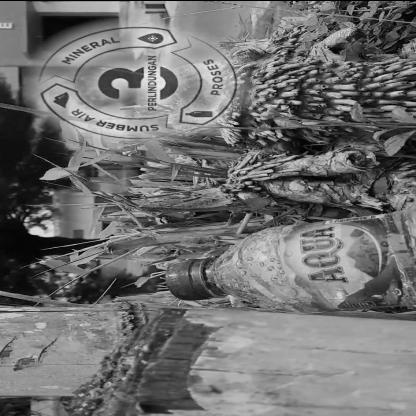plastic_bottles: (167, 209, 416, 319)
